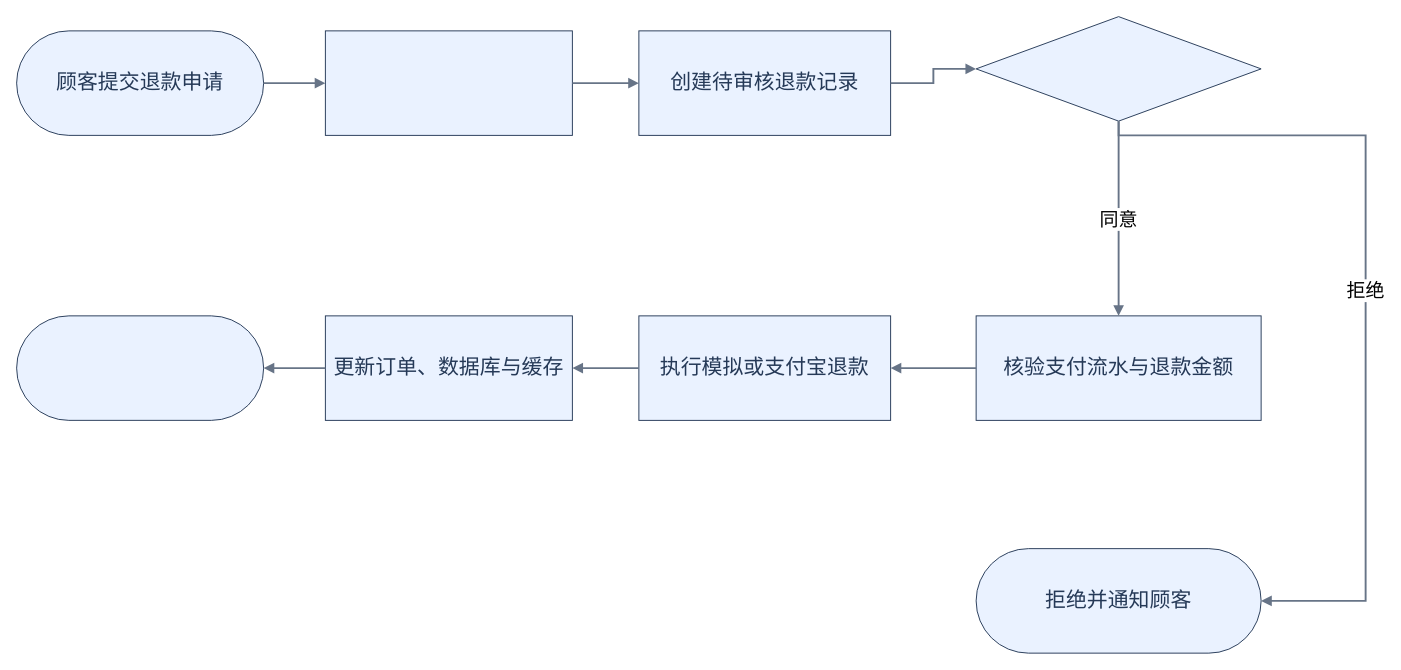
This 1401x670 diagram has some shape labels left out. Each missing label, with the centre of its shape:
"管理员同意退款？" belongs at point 1118,68.
"退款完成；同步失败重试" belongs at point 140,367.
"锁定订单并核验已付款" belongs at point 448,82.
